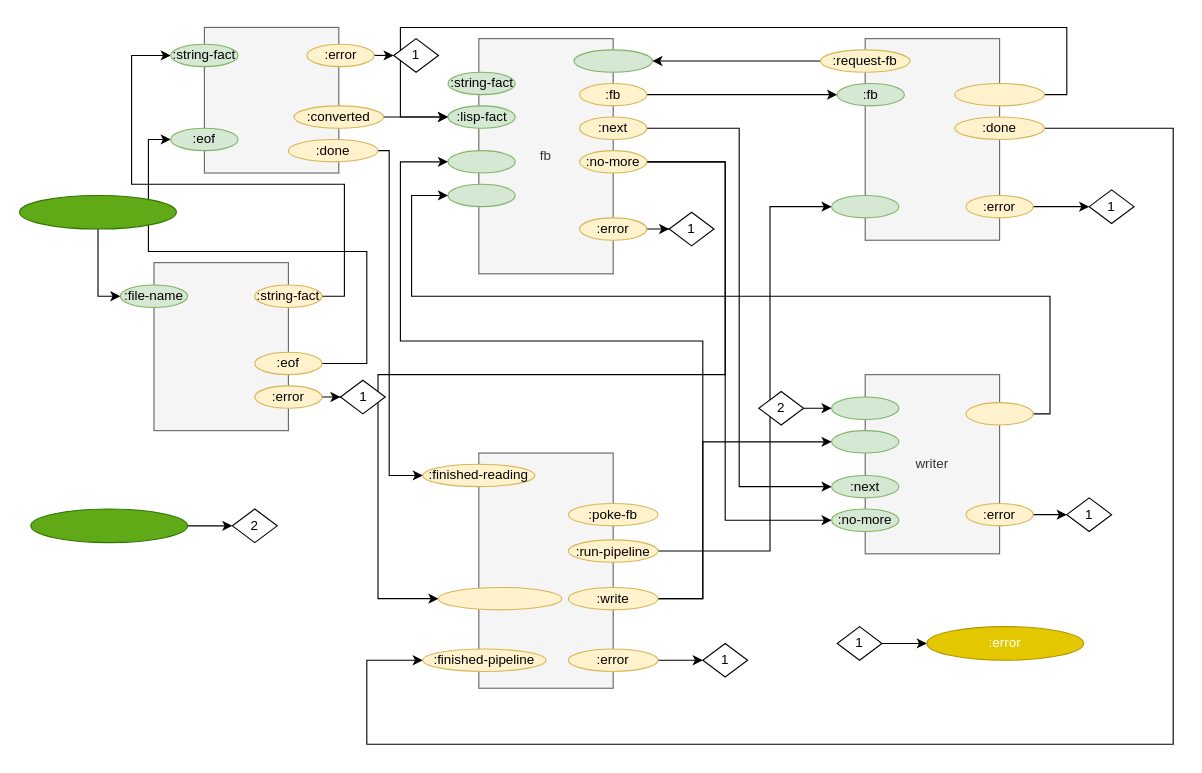
The diagram is 1202 pixels wide and 773 high, and some of its shapes have lost their labels. The box of each missing label's shape, as (x1, y1, x2, y2) in pixels:
:add-fact: (954, 82, 1044, 106)
:fb-request: (573, 49, 652, 72)
:filename: (830, 396, 899, 419)
:finished-writing: (437, 586, 562, 610)
:get-next: (447, 183, 515, 207)
:go: (830, 194, 899, 218)
:iterate: (447, 150, 515, 173)
:prolog-factbase-filename: (18, 194, 176, 229)
:prolog-output-filename: (30, 508, 188, 543)
:request: (965, 402, 1033, 425)
:start: (830, 430, 899, 453)
bounding-boxes: (864, 38, 1000, 240)
convert-to-keywords: (203, 26, 339, 173)
reader: (153, 262, 288, 431)
sequencer: (478, 452, 613, 688)
